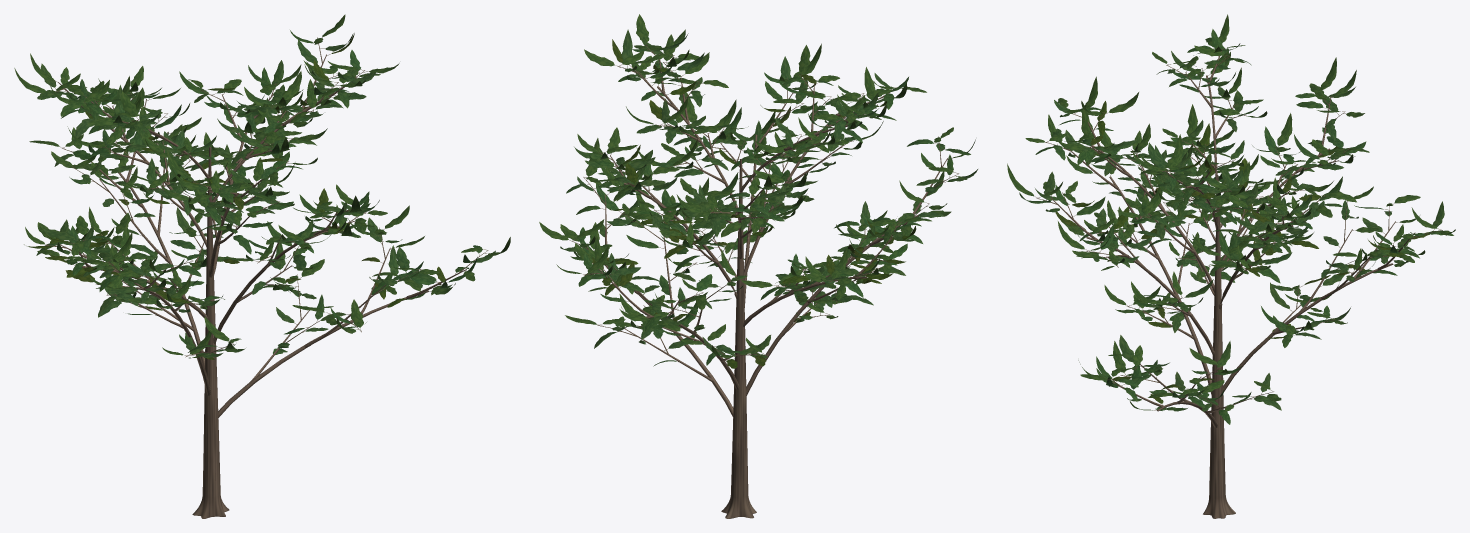
Rendered from m-zelkova.glb.
The picture shows the model from 3 angles, left to right: view 1: azimuth 30°, elevation 25°; view 2: azimuth 150°, elevation 25°; view 3: azimuth 270°, elevation 25°; orthographic projection. The views are drawn at different scales.
Visible parts, largest first — view 1: Foliage, Bark; view 2: Foliage, Bark; view 3: Foliage, Bark.
Part boxes in pixels (x1,y1,x2,y2): Foliage: [14, 14, 510, 359]; Bark: [45, 37, 488, 518]; Foliage: [539, 14, 977, 368]; Bark: [569, 43, 958, 518]; Foliage: [1007, 14, 1455, 424]; Bark: [1035, 48, 1442, 518].
Bounding box in the file's own units: 2.23 × 2.45 × 2.33.
Materials: 2 (2 with a texture image).
